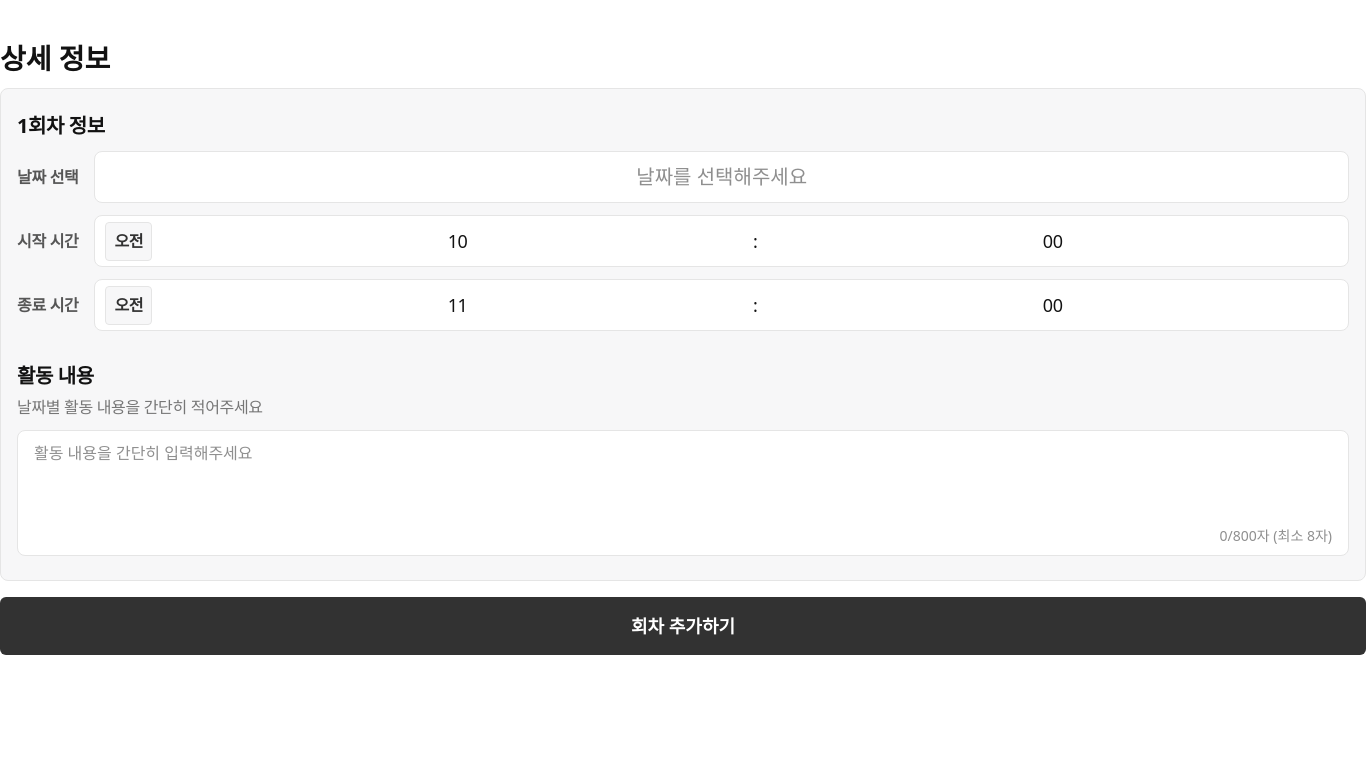
Test case: DetailInfo 통합 테스트 › 회차 정보 표시 › 세션 삭제 후 회차 번호가 재정렬되어야 한다
What coordinates should you click on to do the following:
click the button with aria-label "회차 추가하기 버튼"
I would click on:
 (683, 626)
Its box is [0,597,1365,655].
(page scrolled)
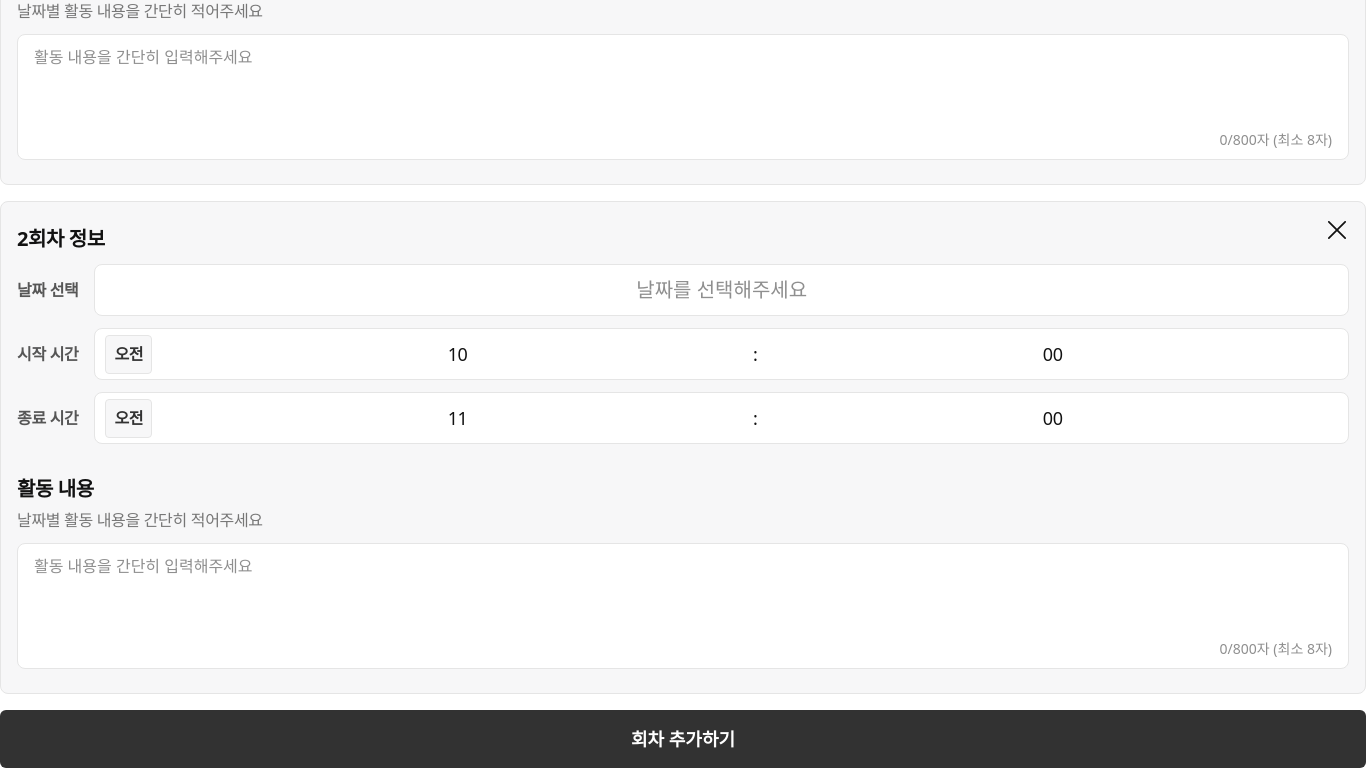
What coordinates should you click on to do the following:
click the button with aria-label "회차 추가하기 버튼"
I would click on:
 (683, 739)
Its box is [0,710,1365,767].
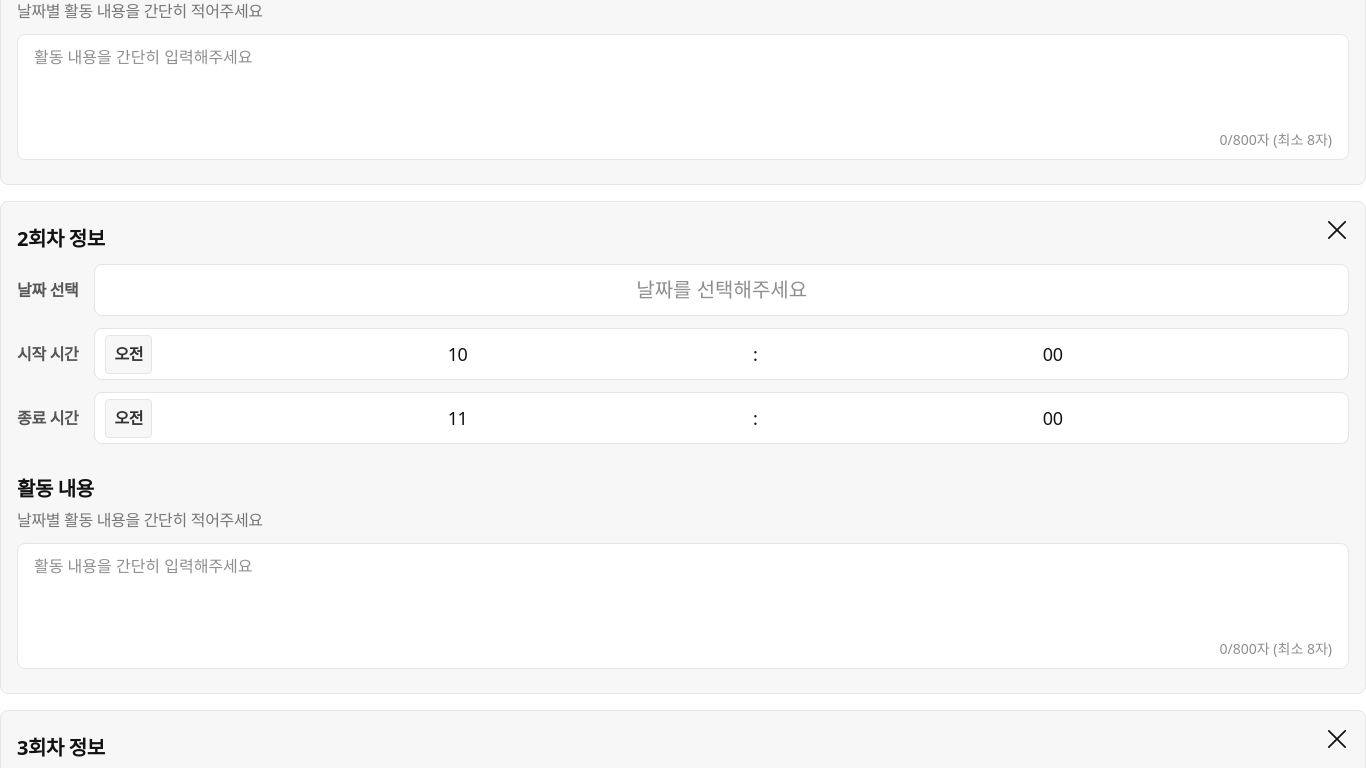
What coordinates should you click on to do the following:
click the button named "회차 삭제"
I would click on:
 (1337, 230)
Its box is [1313,206,1361,254].
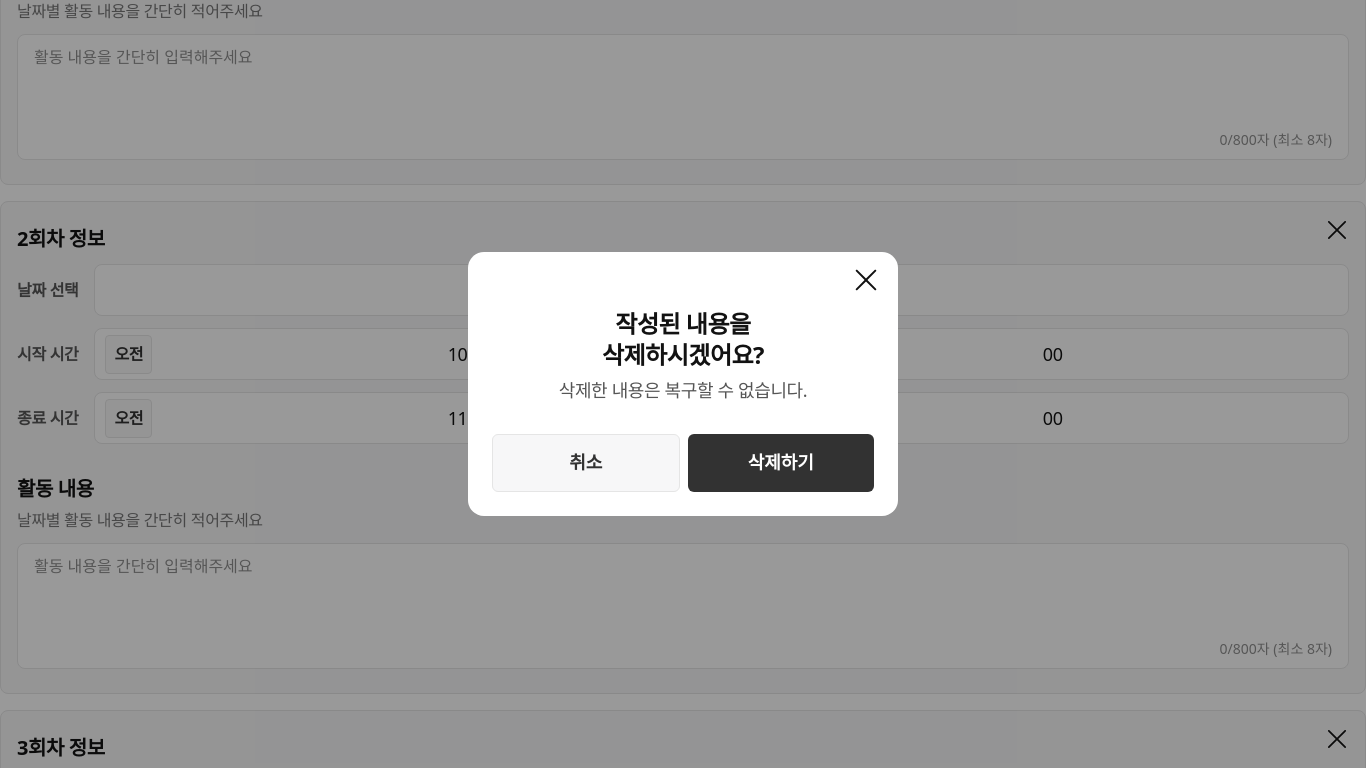
Expected: the dialog is shown
What coordinates should you click on to do the following:
click the button labelled "삭제하기"
I would click on:
 (781, 463)
Its box is [688,434,874,492].
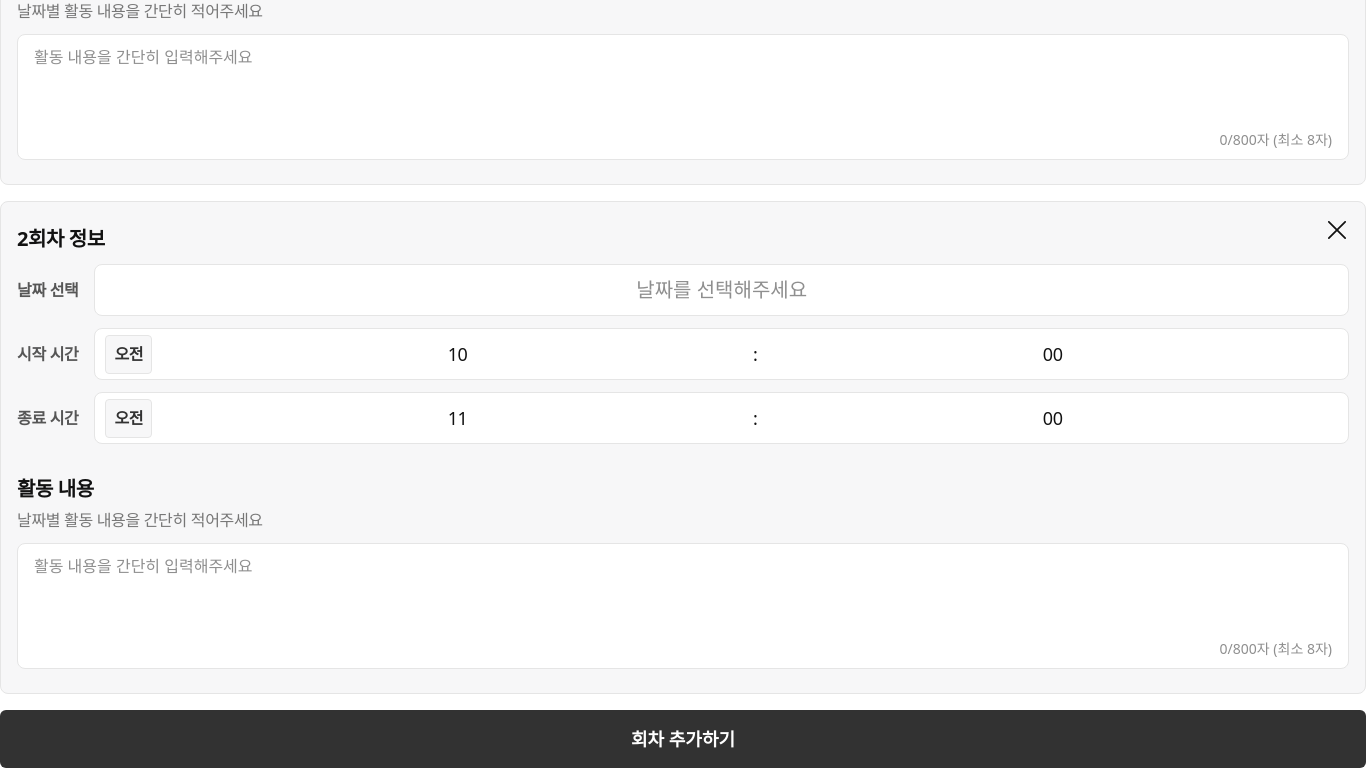
Expected: the heading "2회차 정보" is shown, [17,225,105,252]
Expected: the heading "3회차 정보" is gone
